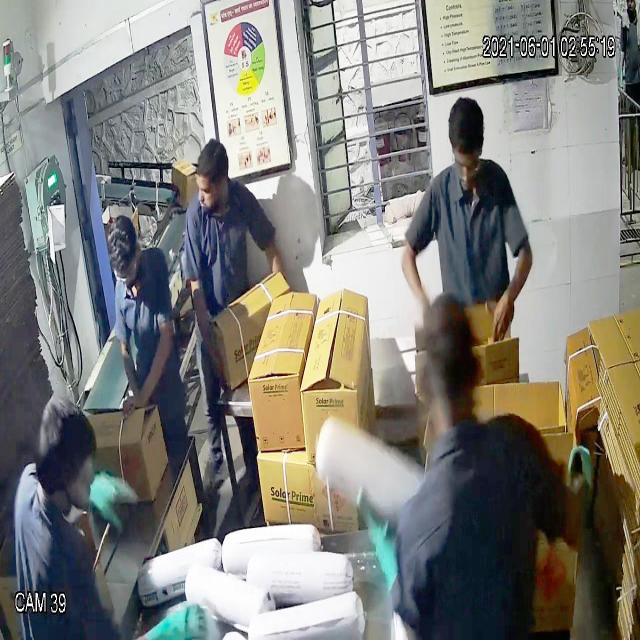glasses: (447, 142, 487, 188)
